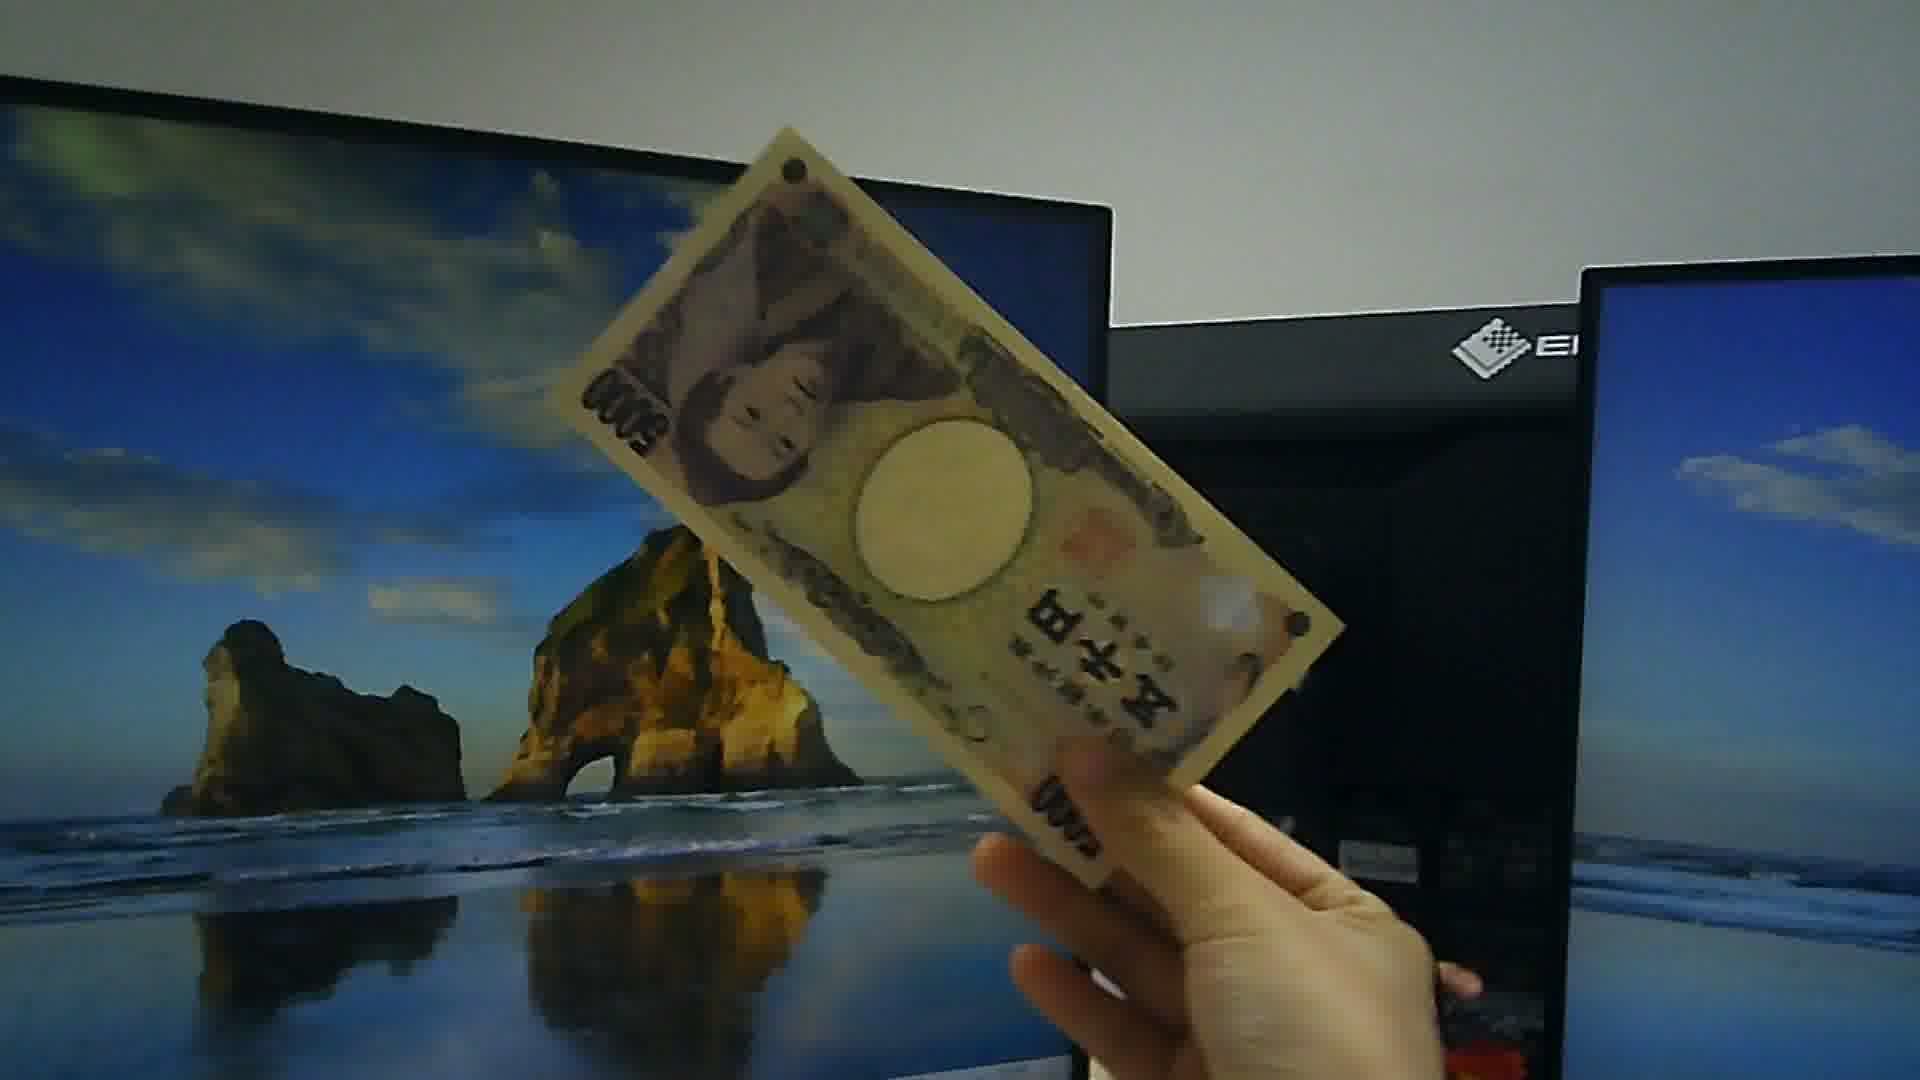5,000 Yen: (556, 127, 1356, 886)
